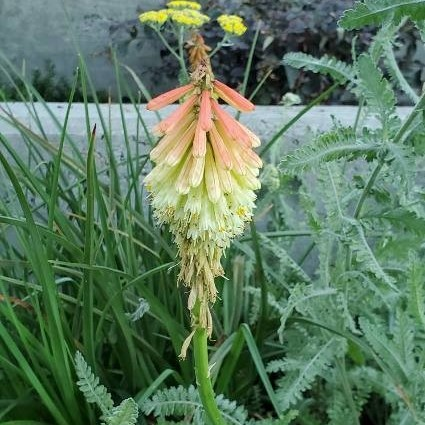obstacle: (103, 67, 410, 414)
